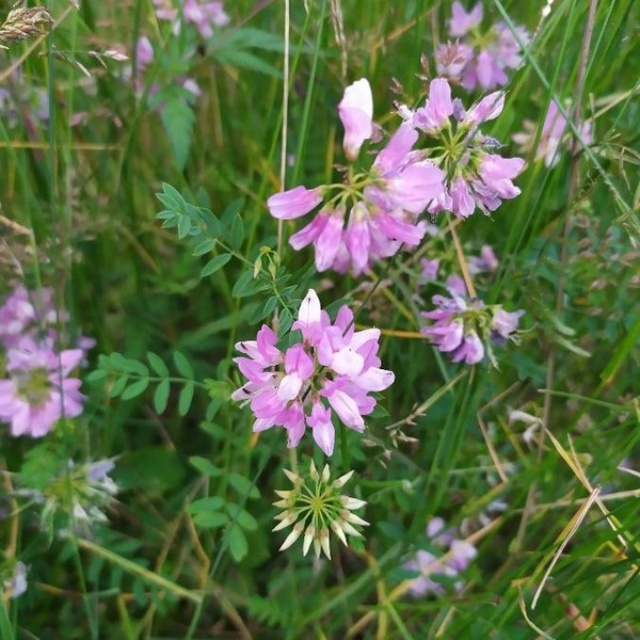obstacle: (171, 67, 577, 585)
